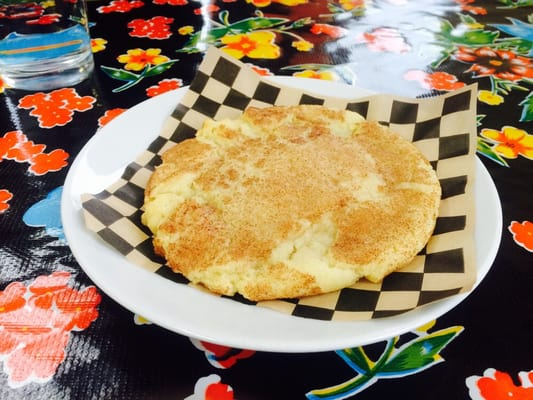soup: (142, 104, 442, 302)
